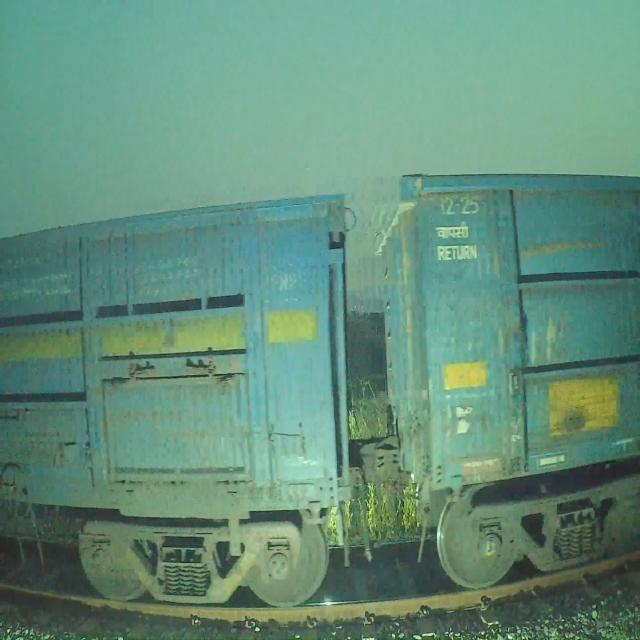WAgon-uic: (0, 184, 360, 611), (367, 162, 640, 591)
